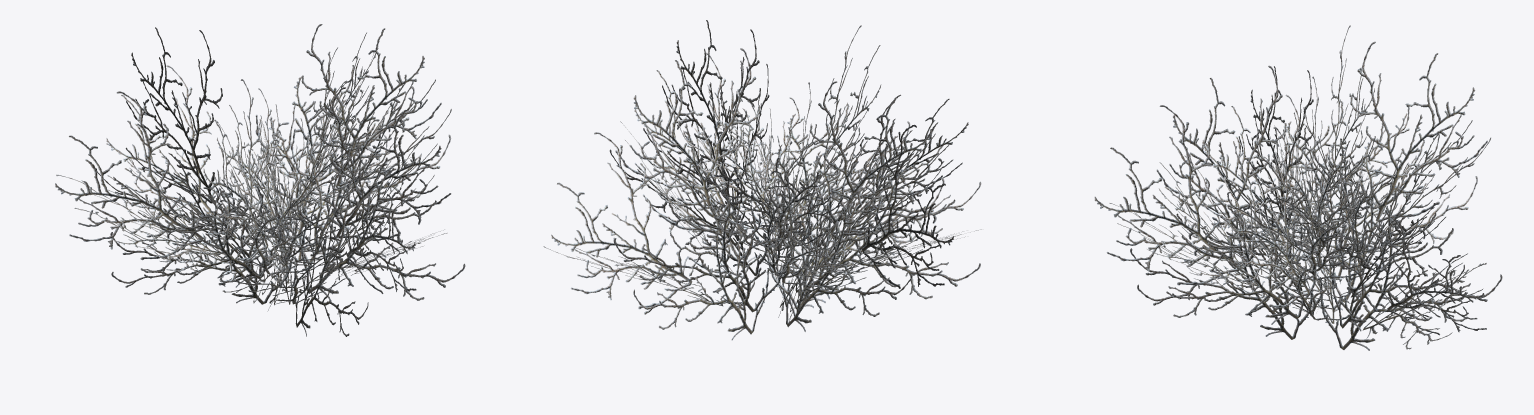
File: SM_EN_2007_guanmu_04.FBX
3 renders of one model, left to right at view 1: azimuth 30°, elevation 25°; view 2: azimuth 150°, elevation 25°; view 3: azimuth 270°, elevation 25°, orthographic. The views are drawn at different scales.
Parts seen in each view (by area): view 1: SM_EN_2007_guanmu_0401; view 2: SM_EN_2007_guanmu_0401; view 3: SM_EN_2007_guanmu_0401.
Boxes of the visible parts, x1,y1,x2,y2 form: SM_EN_2007_guanmu_0401: [55, 24, 465, 336]; SM_EN_2007_guanmu_0401: [543, 20, 981, 340]; SM_EN_2007_guanmu_0401: [1094, 25, 1502, 350].
Size of the model in its own units: 850 by 678 by 858.
